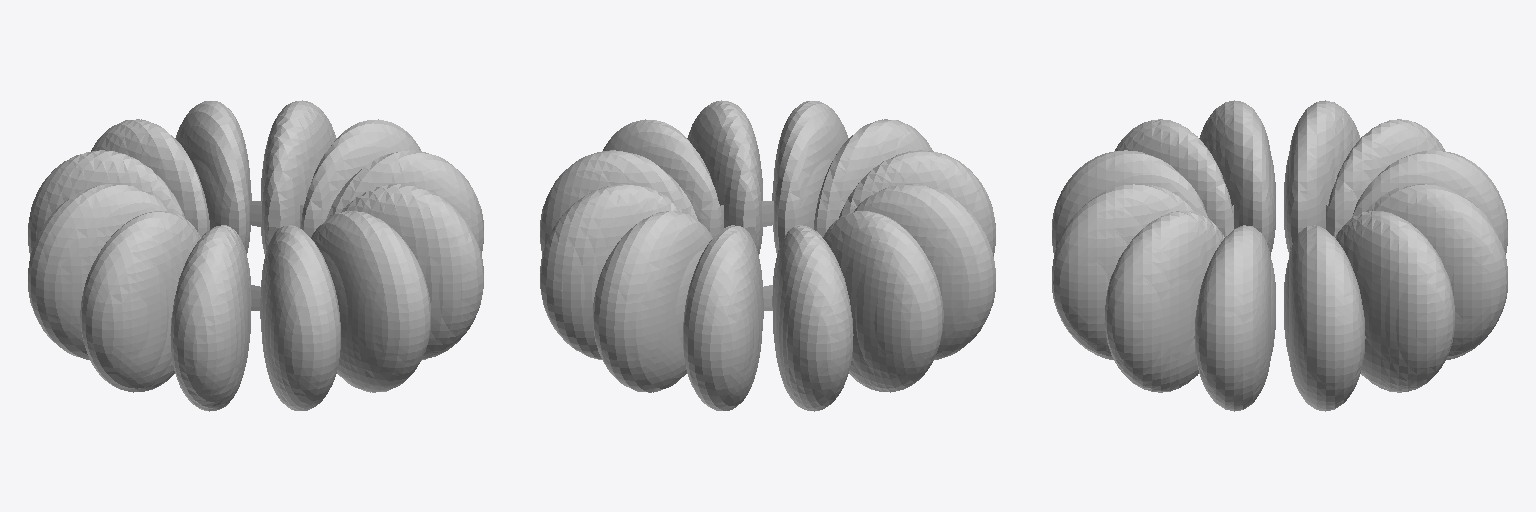
Rendered from orb_n=7_ l=6 _m=-6.obj.
3 renders of one model, left to right at view 1: azimuth 30°, elevation 25°; view 2: azimuth 150°, elevation 25°; view 3: azimuth 270°, elevation 25°, orthographic.
Parts seen in each view (by area): view 1: orb_n=7__l=6__m=-6; view 2: orb_n=7__l=6__m=-6; view 3: orb_n=7__l=6__m=-6.
Part boxes in pixels (bbox=[...]): orb_n=7__l=6__m=-6: bbox=[28, 100, 483, 411]; orb_n=7__l=6__m=-6: bbox=[540, 100, 995, 411]; orb_n=7__l=6__m=-6: bbox=[1052, 100, 1507, 411].
Bounding box in the file's own units: 166 × 69.98 × 166.